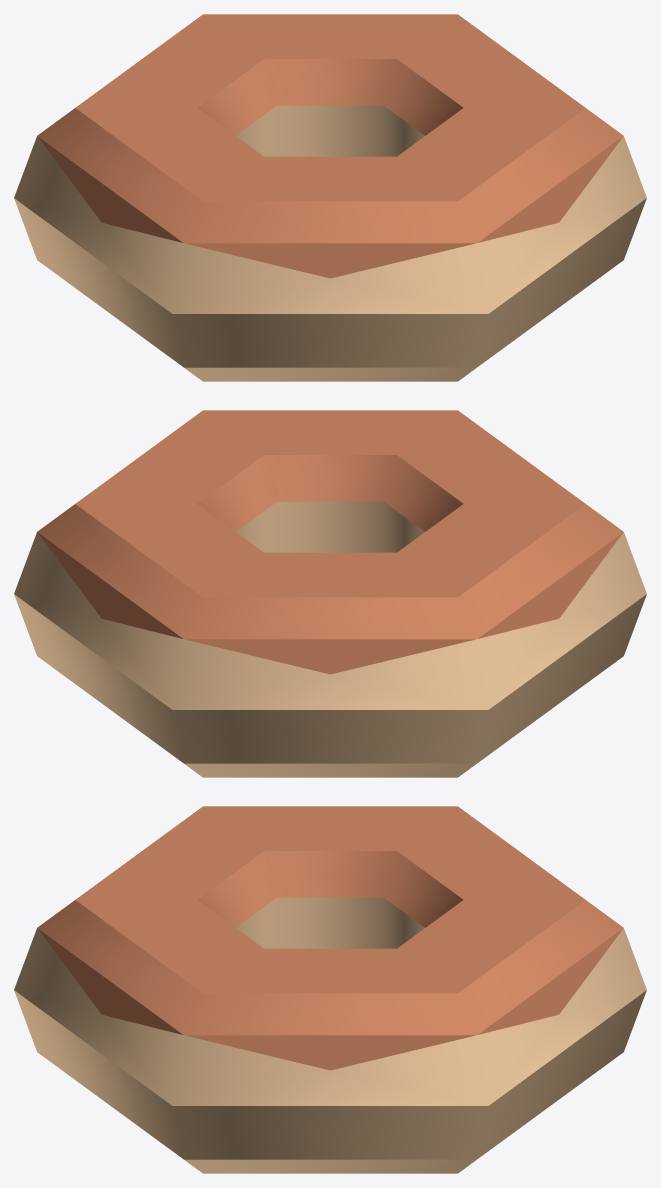
Rendered from Donut Chocolate.glb.
3 views of the same model, one above another, from view 1: azimuth 30°, elevation 25°; view 2: azimuth 150°, elevation 25°; view 3: azimuth 270°, elevation 25° (orthographic).
Parts seen in each view (by area): view 1: donutChocolate; view 2: donutChocolate; view 3: donutChocolate.
Boxes of the visible parts, x1,y1,x2,y2 form: donutChocolate: (14,14,646,381); donutChocolate: (14,410,646,777); donutChocolate: (14,806,646,1173).
Size of the model in its own units: 0.2451 by 0.0889 by 0.283.
